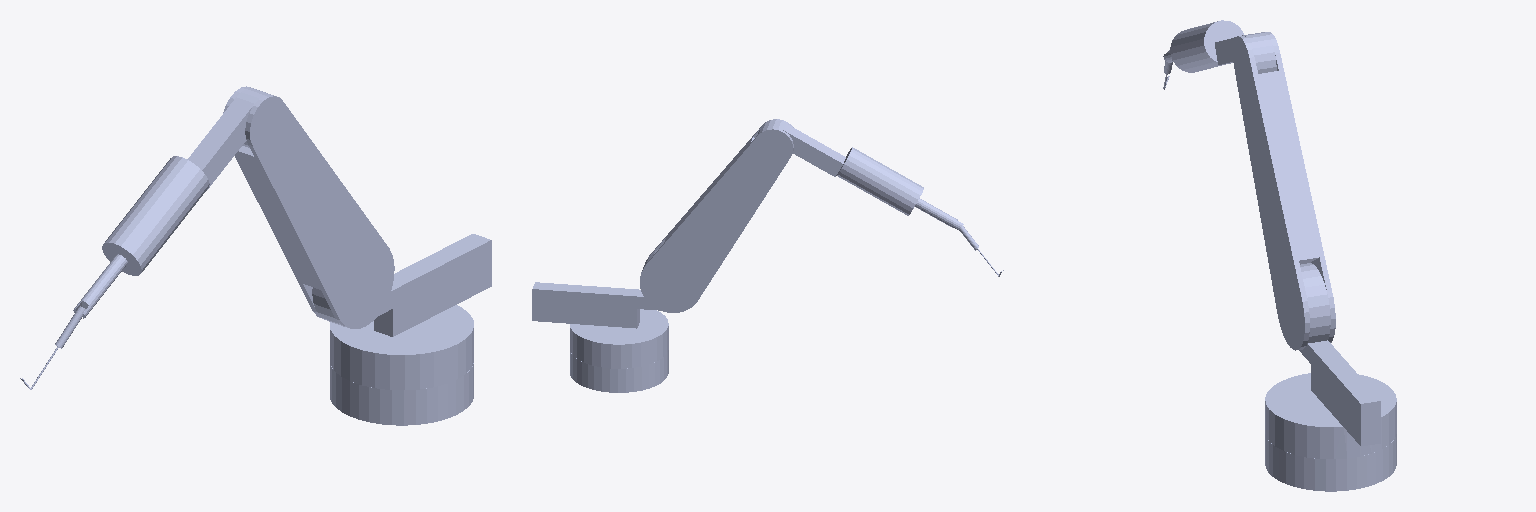
robot.urdf — manipulator:
<?xml version="1.0" encoding="utf-8"?>
<!-- This URDF was automatically created by SolidWorks to URDF Exporter! Originally created by [author] ([email redacted]) 
     Commit Version: 1.6.0-1-g15f4949  Build Version: 1.6.7594.29634
     For more information, please see http://wiki.ros.org/sw_urdf_exporter -->
<robot
  name="manipulator">
  <link
    name = "dummy_link">
  </link>
  <link
    name="base_link">
    <inertial>
      <origin
        xyz="0 0 0"
        rpy="0 0 0" />
      <mass
        value="470.485" />
      <inertia
        ixx="1.1576"
        ixy="-2.3283E-33"
        ixz="-1.852E-33"
        iyy="2.0567"
        iyz="-1.6693E-17"
        izz="1.1576" />
    </inertial>
    <visual>
      <origin
        xyz="0 0 0"
        rpy="0 0 0" />
      <geometry>
        <mesh
          filename="package://manipulator/meshes/base_link.STL" />
      </geometry>
      <material
        name="">
        <color
          rgba="0.79216 0.81961 0.93333 1" />
      </material>
    </visual>
    <collision>
      <origin
        xyz="0 0 0"
        rpy="0 0 0" />
      <geometry>
        <mesh
          filename="package://manipulator/meshes/base_link.STL" />
      </geometry>
    </collision>
  </link>
  <joint
    name = "dummy_joint"
    type ="fixed">
    <parent
    link = "dummy_link"/>
    <child
    link = "base_link"/>
  </joint>
  <link
    name="link1">
    <inertial>
      <origin
        xyz="0.0028507 0.17486 -2.6786E-18"
        rpy="0 0 0" />
      <mass
        value="66.667" />
      <inertia
        ixx="2.6157"
        ixy="-0.63355"
        ixz="5.5511E-17"
        iyy="4.1465"
        iyz="-2.162E-17"
        izz="4.6835" />
    </inertial>
    <visual>
      <origin
        xyz="0 0 0"
        rpy="0 0 0" />
      <geometry>
        <mesh
          filename="package://manipulator/meshes/link1.STL" />
      </geometry>
      <material
        name="">
        <color
          rgba="0.79216 0.81961 0.93333 1" />
      </material>
    </visual>
    <collision>
      <origin
        xyz="0 0 0"
        rpy="0 0 0" />
      <geometry>
        <mesh
          filename="package://manipulator/meshes/link1.STL" />
      </geometry>
    </collision>
  </link>
  <joint
    name="joint1"
    type="revolute">
    <origin
      xyz="0 0 0.161"
      rpy="1.5708 0 -2.7846" />
    <parent
      link="base_link" />
    <child
      link="link1" />
    <axis
      xyz="0 1 0" />
    <limit
      lower= "-1.57"
      upper= "1.57"
      effort = "200"
      velocity= "1" />
  </joint>
  <link
    name="link2">
    <inertial>
      <origin
        xyz="-1.5959E-15 0.5224 0"
        rpy="0 0 0" />
      <mass
        value="52.586" />
      <inertia
        ixx="6.6115"
        ixy="1.7451E-14"
        ixz="-3.3307E-16"
        iyy="0.52305"
        iyz="-1.1588E-15"
        izz="6.9092" />
    </inertial>
    <visual>
      <origin
        xyz="0 0 0"
        rpy="0 0 0" />
      <geometry>
        <mesh
          filename="package://manipulator/meshes/link2.STL" />
      </geometry>
      <material
        name="">
        <color
          rgba="0.79216 0.81961 0.93333 1" />
      </material>
    </visual>
    <collision>
      <origin
        xyz="0 0 0"
        rpy="0 0 0" />
      <geometry>
        <mesh
          filename="package://manipulator/meshes/link2.STL" />
      </geometry>
    </collision>
  </link>
  <joint
    name="joint2"
    type="revolute">
    <origin
      xyz="0.33 0.484 0"
      rpy="3.1416 0 2.5614" />
    <parent
      link="link1" />
    <child
      link="link2" />
    <axis
      xyz="0 0 1" />
    <limit
      lower= "-1.57"
      upper= "1.57"
      effort = "800"
      velocity= "1" />
  </joint>
  <link
    name="link3">
    <inertial>
      <origin
        xyz="0.47919 0.087695 -1.0547E-15"
        rpy="0 0 0" />
      <mass
        value="22.57" />
      <inertia
        ixx="0.14644"
        ixy="-0.25523"
        ixz="3.1973E-15"
        iyy="1.9779"
        iyz="5.2736E-16"
        izz="2.0343" />
    </inertial>
    <visual>
      <origin
        xyz="0 0 0"
        rpy="0 0 0" />
      <geometry>
        <mesh
          filename="package://manipulator/meshes/link3.STL" />
      </geometry>
      <material
        name="">
        <color
          rgba="0.79216 0.81961 0.93333 1" />
      </material>
    </visual>
    <collision>
      <origin
        xyz="0 0 0"
        rpy="0 0 0" />
      <geometry>
        <mesh
          filename="package://manipulator/meshes/link3.STL" />
      </geometry>
    </collision>
  </link>
  <joint
    name="joint3"
    type="revolute">
    <origin
      xyz="0 1.15 0"
      rpy="-3.1416 0 3.054" />
    <parent
      link="link2" />
    <child
      link="link3" />
    <axis
      xyz="0 0 1" />
    <limit
      lower= "-1.57"
      upper= "1.57"
      effort = "180"
      velocity= "0.5" />
  </joint>
  <link
    name="link4">
    <inertial>
      <origin
        xyz="0.15139 -6.6613E-16 3.3307E-16"
        rpy="0 0 0" />
      <mass
        value="1.3701" />
      <inertia
        ixx="0.0012339"
        ixy="2.2362E-18"
        ixz="-2.8677E-17"
        iyy="0.019109"
        iyz="-8.6736E-19"
        izz="0.019093" />
    </inertial>
    <visual>
      <origin
        xyz="0 0 0"
        rpy="0 0 0" />
      <geometry>
        <mesh
          filename="package://manipulator/meshes/link4.STL" />
      </geometry>
      <material
        name="">
        <color
          rgba="0.79216 0.81961 0.93333 1" />
      </material>
    </visual>
    <collision>
      <origin
        xyz="0 0 0"
        rpy="0 0 0" />
      <geometry>
        <mesh
          filename="package://manipulator/meshes/link4.STL" />
      </geometry>
    </collision>
  </link>
  <joint
    name="joint4"
    type="revolute">
    <origin
      xyz="0.82618 0.115 0"
      rpy="-0.43858 0 0" />
    <parent
      link="link3" />
    <child
      link="link4" />
    <axis
      xyz="1 0 0" />
    <limit
      lower= "-1.57"
      upper= "1.57"
      effort = "0.5"
      velocity= "0.2" />
  </joint>
  <link
    name="link5">
    <inertial>
      <origin
        xyz="0.066156 -6.2501E-10 1.3144E-09"
        rpy="0 0 0" />
      <mass
        value="0.15807" />
      <inertia
        ixx="2.551E-05"
        ixy="-4.7019E-12"
        ixz="9.6707E-12"
        iyy="0.00041225"
        iyz="-1.3708E-11"
        izz="0.0004125" />
    </inertial>
    <visual>
      <origin
        xyz="0 0 0"
        rpy="0 0 0" />
      <geometry>
        <mesh
          filename="package://manipulator/meshes/link5.STL" />
      </geometry>
      <material
        name="">
        <color
          rgba="0.79216 0.81961 0.93333 1" />
      </material>
    </visual>
    <collision>
      <origin
        xyz="0 0 0"
        rpy="0 0 0" />
      <geometry>
        <mesh
          filename="package://manipulator/meshes/link5.STL" />
      </geometry>
    </collision>
  </link>
  <joint
    name="joint5"
    type="revolute">
    <origin
      xyz="0.39382 0 0"
      rpy="0 0 -0.3908" />
    <parent
      link="link4" />
    <child
      link="link5" />
    <axis
      xyz="0 0 1" />
    <limit
      lower= "-1.57"
      upper= "1.57"
      effort = "0.1"
      velocity= "0.5" />
  </joint>
  <link
    name="link6">
    <inertial>
      <origin
        xyz="0.087506 1.3323E-15 2.2204E-16"
        rpy="0 0 0" />
      <mass
        value="0.033609" />
      <inertia
        ixx="2.425E-06"
        ixy="-2.4337E-18"
        ixz="-3.6773E-20"
        iyy="0.00016671"
        iyz="3.3881E-21"
        izz="0.00016671" />
    </inertial>
    <visual>
      <origin
        xyz="0 0 0"
        rpy="0 0 0" />
      <geometry>
        <mesh
          filename="package://manipulator/meshes/link6.STL" />
      </geometry>
      <material
        name="">
        <color
          rgba="0.79216 0.81961 0.93333 1" />
      </material>
    </visual>
    <collision>
      <origin
        xyz="0 0 0"
        rpy="0 0 0" />
      <geometry>
        <mesh
          filename="package://manipulator/meshes/link6.STL" />
      </geometry>
    </collision>
  </link>
  <joint
    name="joint6"
    type="revolute">
    <origin
      xyz="0.10176 0 0"
      rpy="2.612 0 0" />
    <parent
      link="link5" />
    <child
      link="link6" />
    <axis
      xyz="1 0 0" />
    <limit
      lower= "-1.57"
      upper= "1.57"
      effort = "0.000025"
      velocity= "0.05" />
  </joint>
  <link
    name="inst_link_2">
    <inertial>
      <origin
        xyz="0.030963 5.4738E-10 2.6295E-10"
        rpy="0 0 0" />
      <mass
        value="0.002737" />
      <inertia
        ixx="2.2031E-08"
        ixy="2.81E-14"
        ixz="2.0419E-14"
        iyy="7.4536E-07"
        iyz="4.8625E-15"
        izz="7.4671E-07" />
    </inertial>
    <visual>
      <origin
        xyz="0 0 0"
        rpy="0 0 0" />
      <geometry>
        <mesh
          filename="package://manipulator/meshes/inst_link_2.STL" />
      </geometry>
      <material
        name="">
        <color
          rgba="0.79216 0.81961 0.93333 1" />
      </material>
    </visual>
    <collision>
      <origin
        xyz="0 0 0"
        rpy="0 0 0" />
      <geometry>
        <mesh
          filename="package://manipulator/meshes/inst_link_2.STL" />
      </geometry>
    </collision>
  </link>
  <joint
    name="inst_joint_2"
    type="revolute">
    <origin
      xyz="0.28124 0 0"
      rpy="-1.5708 1.2807 3.1416" />
    <parent
      link="link6" />
    <child
      link="inst_link_2" />
    <axis
      xyz="0 0 1" />
    <limit
      lower= "0"
      upper= "3.14"
      effort = "0.0001"
      velocity= "0" />
  </joint>
  <link
    name="inst_link_3">
    <inertial>
      <origin
        xyz="0.0090838 3.2426E-09 -3.8596E-10"
        rpy="0 0 0" />
      <mass
        value="0.00025593" />
      <inertia
        ixx="5.1131E-10"
        ixy="6.2729E-16"
        ixz="1.8222E-16"
        iyy="9.4856E-09"
        iyz="5.4457E-15"
        izz="9.4979E-09" />
    </inertial>
    <visual>
      <origin
        xyz="0 0 0"
        rpy="0 0 0" />
      <geometry>
        <mesh
          filename="package://manipulator/meshes/inst_link_3.STL" />
      </geometry>
      <material
        name="">
        <color
          rgba="0.79216 0.81961 0.93333 1" />
      </material>
    </visual>
    <collision>
      <origin
        xyz="0 0 0"
        rpy="0 0 0" />
      <geometry>
        <mesh
          filename="package://manipulator/meshes/inst_link_3.STL" />
      </geometry>
    </collision>
  </link>
  <joint
    name="inst_joint_3"
    type="revolute">
    <origin
      xyz="0.058 0 0"
      rpy="-1.5708 -1.3013 -3.1416" />
    <parent
      link="inst_link_2" />
    <child
      link="inst_link_3" />
    <axis
      xyz="0 0 1" />
    <limit
      lower= "-3.140"
      upper= "0"
      effort = "0.000001"
      velocity= "0" />
  </joint>
  <gazebo reference = "base_link">
   <material>Gazebo/Black</material>
  </gazebo>
  <gazebo reference = "link1">
   <material>Gazebo/Orange</material>
  </gazebo>
  <gazebo reference = "link2">
   <material>Gazebo/Orange</material>
  </gazebo>
  <gazebo reference = "link3">
   <material>Gazebo/Orange</material>
  </gazebo>
  <gazebo reference = "link4">
   <material>Gazebo/Orange</material>
  </gazebo>
  <gazebo reference = "link5">
   <material>Gazebo/Orange</material>
  </gazebo>
  <gazebo reference = "link6">
   <material>Gazebo/White</material>
  </gazebo>
  <gazebo reference = "inst_lik_2">
   <material>Gazebo/White</material>
  </gazebo>
  <transmission name="trans1">
   <type>SimpleTransmission</type>
   <joint name="joint1">
     <hardwareInterface>hardware_interface/EffortJointInterface</hardwareInterface>
  </joint>
  <actuator name="motor1">
    <mechanicalReduction>1</mechanicalReduction>
    <hardwareInterface>hardware_interface/EffortJointInterface</hardwareInterface>
  </actuator>
  </transmission>
  <transmission name="trans2">
   <type>SimpleTransmission</type>
   <joint name="joint2">
     <hardwareInterface>hardware_interface/EffortJointInterface</hardwareInterface>
  </joint>
  <actuator name="motor2">
    <mechanicalReduction>1</mechanicalReduction>
    <hardwareInterface>hardware_interface/EffortJointInterface</hardwareInterface>
  </actuator>
  </transmission>
  <transmission name="trans3">
   <type>SimpleTransmission</type>
   <joint name="joint3">
     <hardwareInterface>hardware_interface/EffortJointInterface</hardwareInterface>
  </joint>
  <actuator name="motor3">
    <mechanicalReduction>1</mechanicalReduction>
    <hardwareInterface>hardware_interface/EffortJointInterface</hardwareInterface>
  </actuator>
  </transmission>
  <transmission name="trans4">
   <type>SimpleTransmission</type>
   <joint name="joint4">
     <hardwareInterface>hardware_interface/EffortJointInterface</hardwareInterface>
  </joint>
  <actuator name="motor4">
    <mechanicalReduction>1</mechanicalReduction>
    <hardwareInterface>hardware_interface/EffortJointInterface</hardwareInterface>
  </actuator>
  </transmission>
  <transmission name="trans5">
   <type>SimpleTransmission</type>
   <joint name="joint5">
     <hardwareInterface>hardware_interface/EffortJointInterface</hardwareInterface>
  </joint>
  <actuator name="motor5">
    <mechanicalReduction>1</mechanicalReduction>
    <hardwareInterface>hardware_interface/EffortJointInterface</hardwareInterface>
  </actuator>
  </transmission>
  <transmission name="trans6">
   <type>SimpleTransmission</type>
   <joint name="joint6">
     <hardwareInterface>hardware_interface/EffortJointInterface</hardwareInterface>
  </joint>
  <actuator name="motor6">
    <mechanicalReduction>1</mechanicalReduction>
    <hardwareInterface>hardware_interface/EffortJointInterface</hardwareInterface>
  </actuator>
  </transmission>
  <transmission name="trans7">
   <type>SimpleTransmission</type>
   <joint name="inst_joint_2">
     <hardwareInterface>hardware_interface/EffortJointInterface</hardwareInterface>
  </joint>
  <actuator name="motor7">
    <mechanicalReduction>1</mechanicalReduction>
    <hardwareInterface>hardware_interface/EffortJointInterface</hardwareInterface>
  </actuator>
  </transmission>
  <transmission name="trans8">
   <type>SimpleTransmission</type>
   <joint name="inst_joint_3">
     <hardwareInterface>hardware_interface/EffortJointInterface</hardwareInterface>
  </joint>
  <actuator name="motor8">
    <mechanicalReduction>1</mechanicalReduction>
    <hardwareInterface>hardware_interface/EffortJointInterface</hardwareInterface>
  </actuator>
  </transmission>
  <gazebo>
   <plugin name="gazebo_ros_control" filename="libgazebo_ros_control.so">
     <robotNamespace>/manipulator</robotNamespace>
     <robotSimType>gazebo_ros_control/DefaultRobotHWSim</robotSimType>
     <legacyModeNS>true</legacyModeNS>
   </plugin>
  </gazebo>
</robot>

--- What the picture shows (computed from the rendered views, not written in the file) ---
The picture shows the robot from 3 angles, left to right: view 1: azimuth 30°, elevation 25°; view 2: azimuth 150°, elevation 25°; view 3: azimuth 270°, elevation 25°; orthographic projection.
Robot: manipulator — 10 links, 9 joints (8 revolute, 1 fixed); root link dummy_link; default pose: all joints at 0.
Links seen in each view (by area): view 1: link2, link1, link3, base_link, link4; view 2: link2, link1, link3, base_link; view 3: link2, link1, base_link, link3.
Link boxes in pixels (x1=…): link2: x1=223, y1=86, x2=394, y2=328; link1: x1=312, y1=234, x2=491, y2=389; link3: x1=102, y1=88, x2=270, y2=275; base_link: x1=330, y1=363, x2=473, y2=425; link4: x1=73, y1=254, x2=127, y2=318; link2: x1=640, y1=119, x2=793, y2=312; link1: x1=532, y1=250, x2=668, y2=368; link3: x1=758, y1=121, x2=923, y2=215; base_link: x1=570, y1=350, x2=668, y2=392; link2: x1=1233, y1=32, x2=1335, y2=350; link1: x1=1265, y1=263, x2=1396, y2=458; base_link: x1=1265, y1=434, x2=1396, y2=491; link3: x1=1170, y1=20, x2=1276, y2=73.
Size in the robot's own frame: 2.76 by 1.06 by 1.73 metres.
9 mesh visuals loaded from 9 distinct referenced files (9 binary STL).